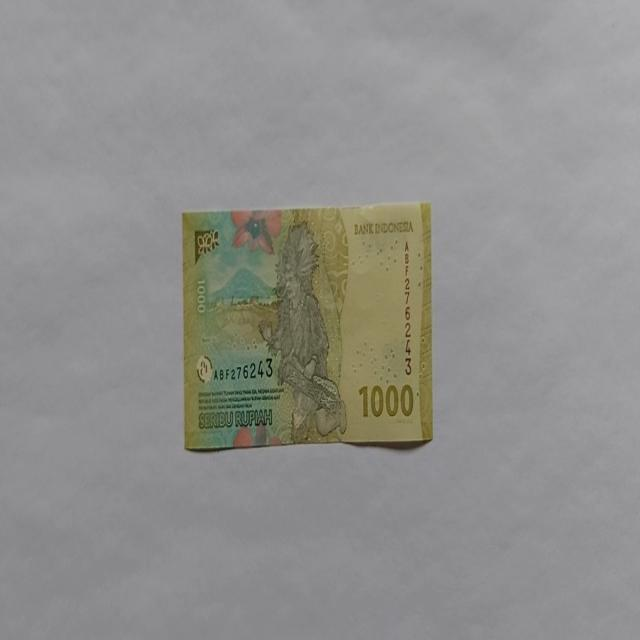seribu rupiah kertas: (180, 201, 434, 451)
